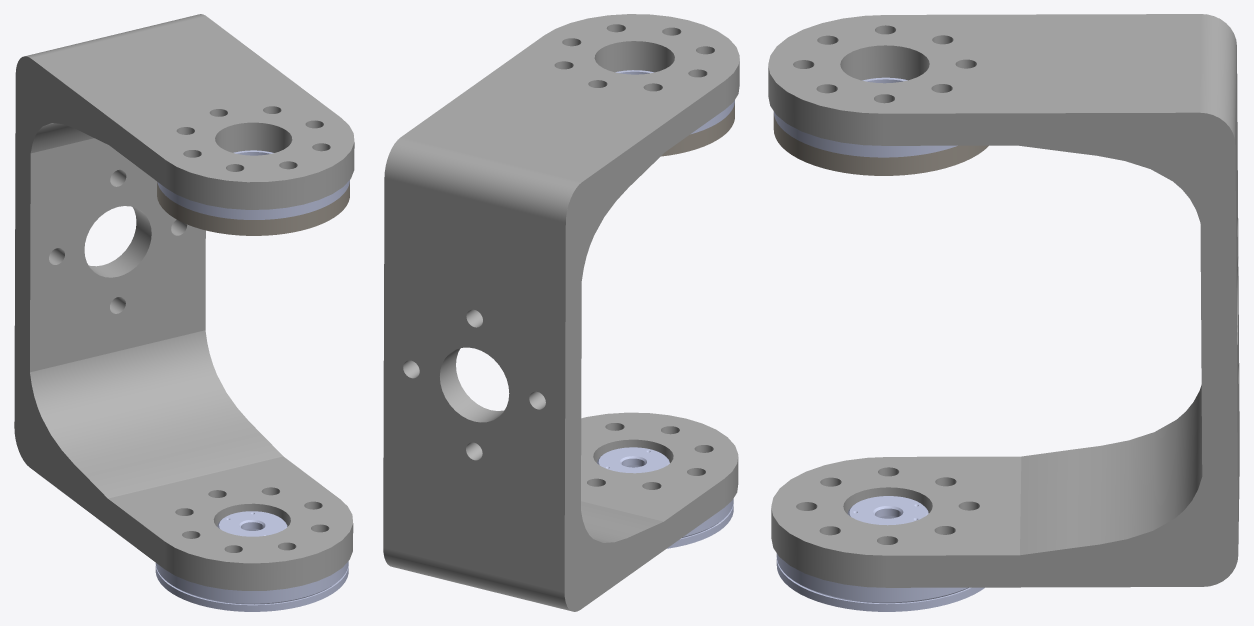
3 views of the same model, side by side, from view 1: azimuth 30°, elevation 25°; view 2: azimuth 150°, elevation 25°; view 3: azimuth 270°, elevation 25° (orthographic). The views are drawn at different scales.
Visible parts, largest first — view 1: Cut_Extrude3_DC_Shell, NONE_DC_Shell, Cut_Extrude4_DC_Shell, Cut_Extrude1_DC_Shell; view 2: Cut_Extrude3_DC_Shell, NONE_DC_Shell, Cut_Extrude4_DC_Shell; view 3: Cut_Extrude3_DC_Shell, NONE_DC_Shell, Cut_Extrude4_DC_Shell, Cut_Extrude1_DC_Shell.
Part boxes in pixels (left/top/right/bottom): Cut_Extrude3_DC_Shell: left=14, top=14, right=354, bottom=590; NONE_DC_Shell: left=155, top=511, right=348, bottom=611; Cut_Extrude4_DC_Shell: left=157, top=182, right=349, bottom=235; Cut_Extrude1_DC_Shell: left=157, top=150, right=349, bottom=219; Cut_Extrude3_DC_Shell: left=383, top=14, right=739, bottom=611; NONE_DC_Shell: left=597, top=447, right=733, bottom=548; Cut_Extrude4_DC_Shell: left=661, top=103, right=734, bottom=156; Cut_Extrude3_DC_Shell: left=768, top=14, right=1239, bottom=587; NONE_DC_Shell: left=776, top=496, right=984, bottom=611; Cut_Extrude4_DC_Shell: left=773, top=113, right=988, bottom=175; Cut_Extrude1_DC_Shell: left=773, top=77, right=957, bottom=157.
Size of the model in its own units: 23.22 by 54.61 by 46.42.
